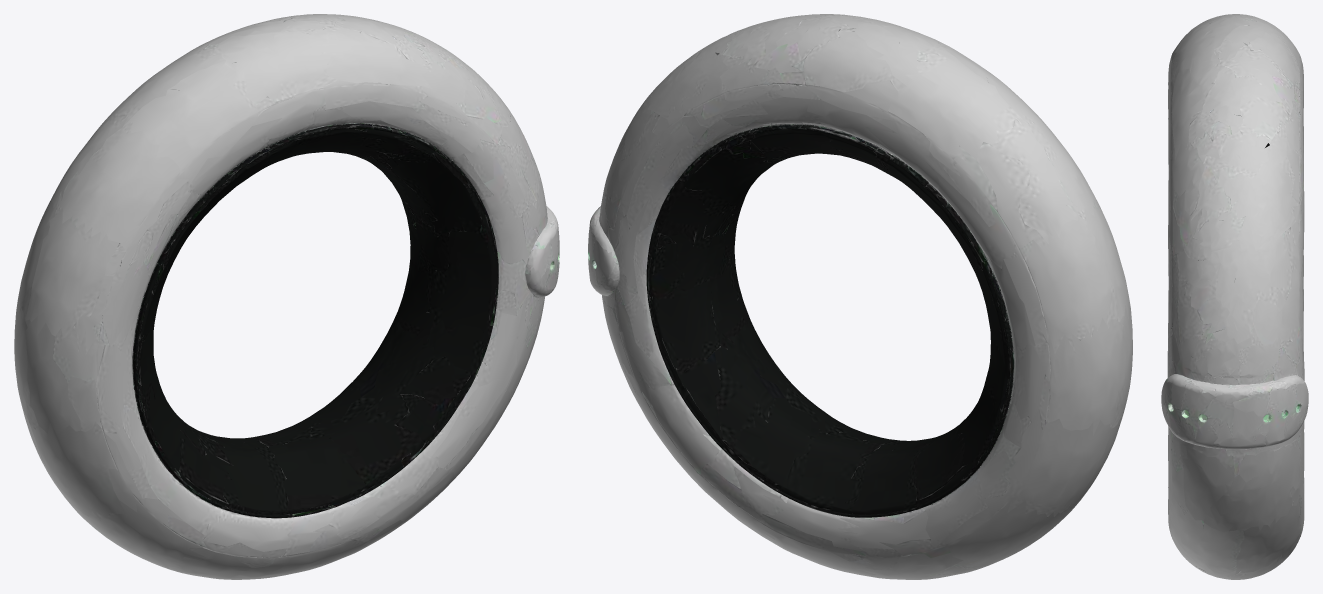
File: halo.glb
3 renders of one model, left to right at view 1: azimuth 30°, elevation 25°; view 2: azimuth 150°, elevation 25°; view 3: azimuth 270°, elevation 25°, orthographic. The views are drawn at different scales.
Parts seen in each view (by area): view 1: mesh_node; view 2: mesh_node; view 3: mesh_node.
Boxes of the visible parts, <box> form: mesh_node: <box>14,14,559,579</box>; mesh_node: <box>588,14,1132,579</box>; mesh_node: <box>1161,14,1308,579</box>.
Size of the model in its own units: 1.9 by 1.88 by 0.4899.
1 material, 1 textured.
